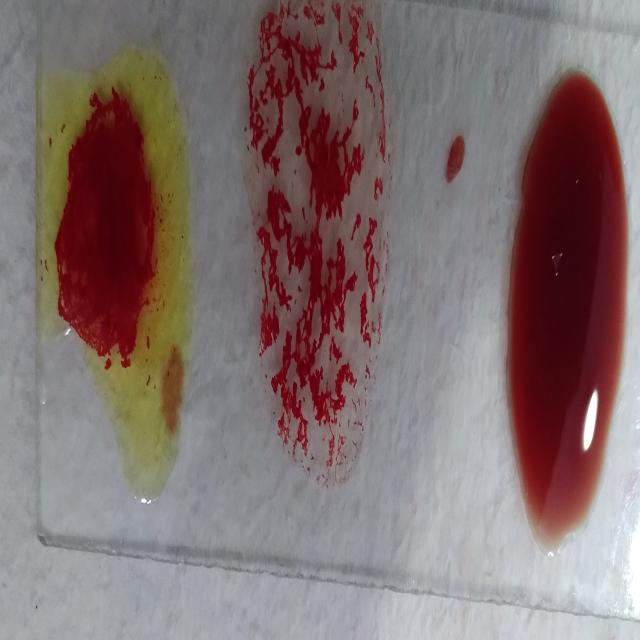B: (42, 37, 200, 510)
D: (253, 14, 385, 488)
